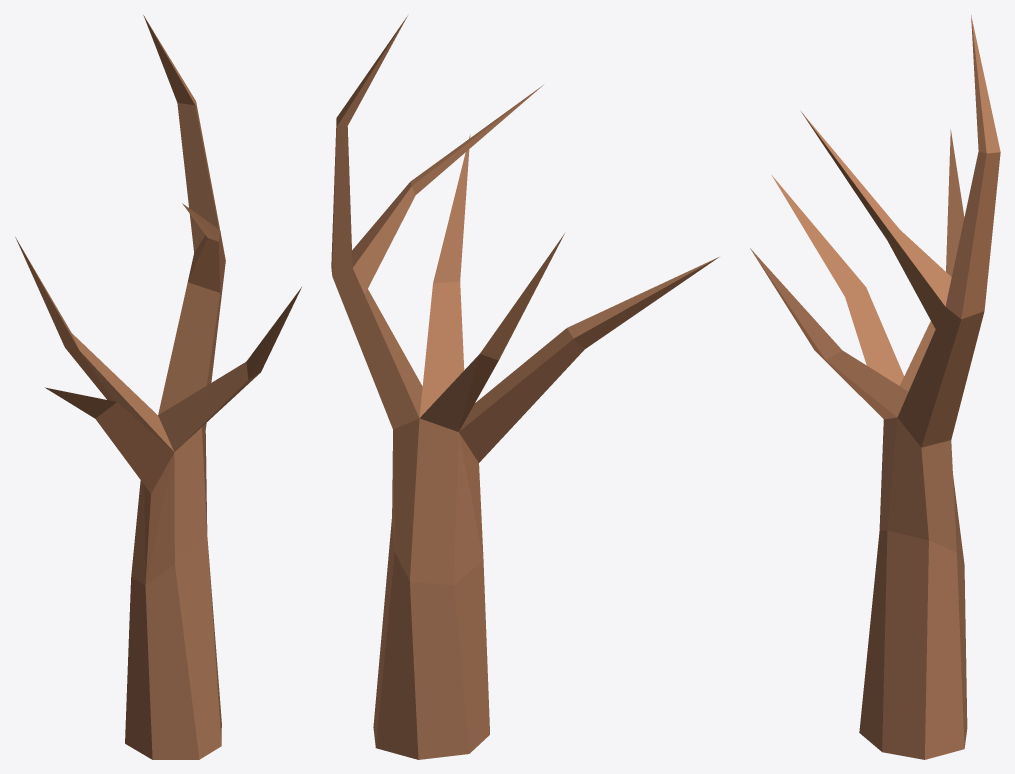
Rendered from TreeAutumn6_Alt3.fbx.
3 renders of one model, left to right at view 1: azimuth 30°, elevation 25°; view 2: azimuth 150°, elevation 25°; view 3: azimuth 270°, elevation 25°, orthographic. The views are drawn at different scales.
Parts seen in each view (by area): view 1: TreeAutumn6_Alt3; view 2: TreeAutumn6_Alt3; view 3: TreeAutumn6_Alt3.
Boxes of the visible parts, x1,y1,x2,y2 form: TreeAutumn6_Alt3: [15, 15, 301, 759]; TreeAutumn6_Alt3: [331, 16, 718, 759]; TreeAutumn6_Alt3: [750, 15, 1000, 759].
Size of the model in its own units: 0.8585 by 2.11 by 0.6677.
